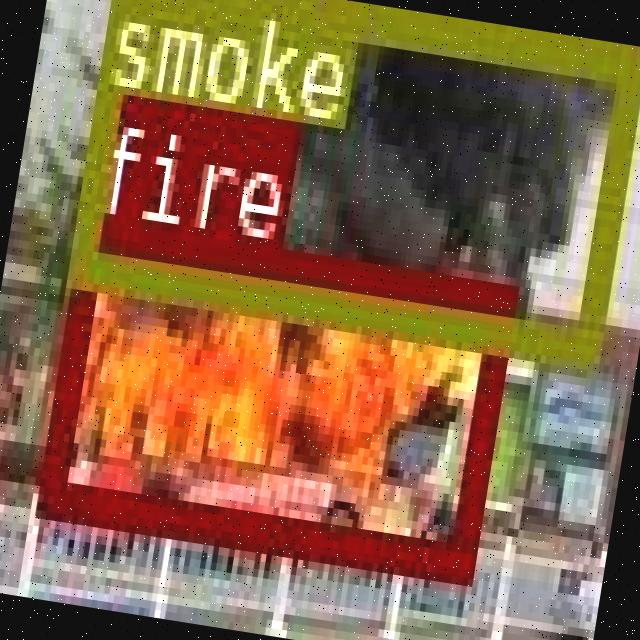fire: (36, 216, 510, 575)
smoke: (65, 0, 640, 355)
